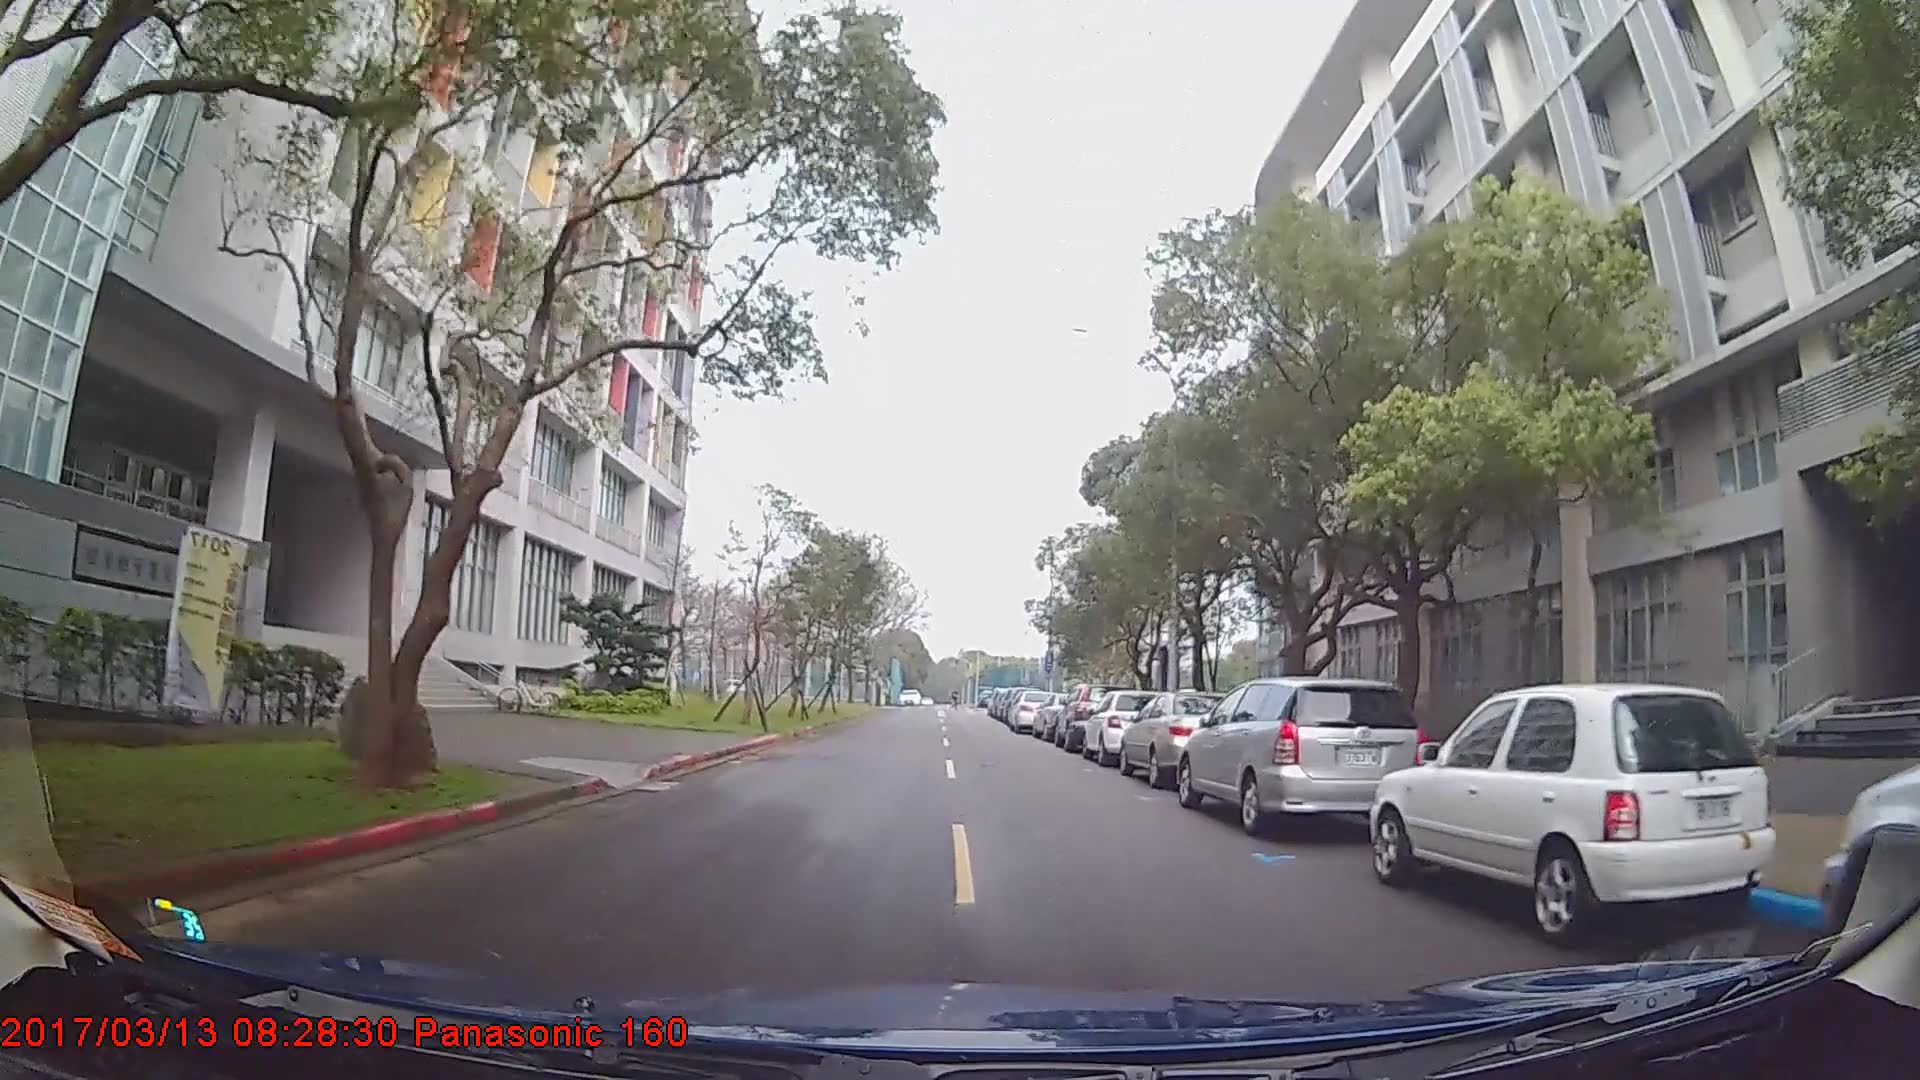vehicle: (1367, 682, 1778, 943), (1175, 676, 1429, 835), (1118, 688, 1255, 785), (1080, 688, 1164, 765), (1005, 686, 1062, 733)
